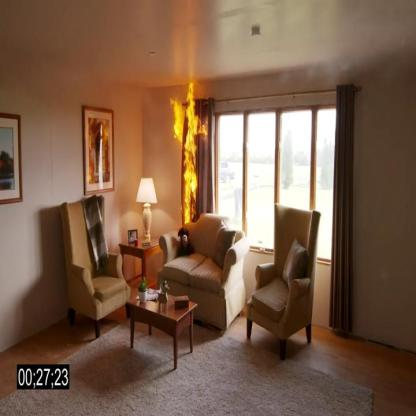fire: (169, 83, 209, 228)
